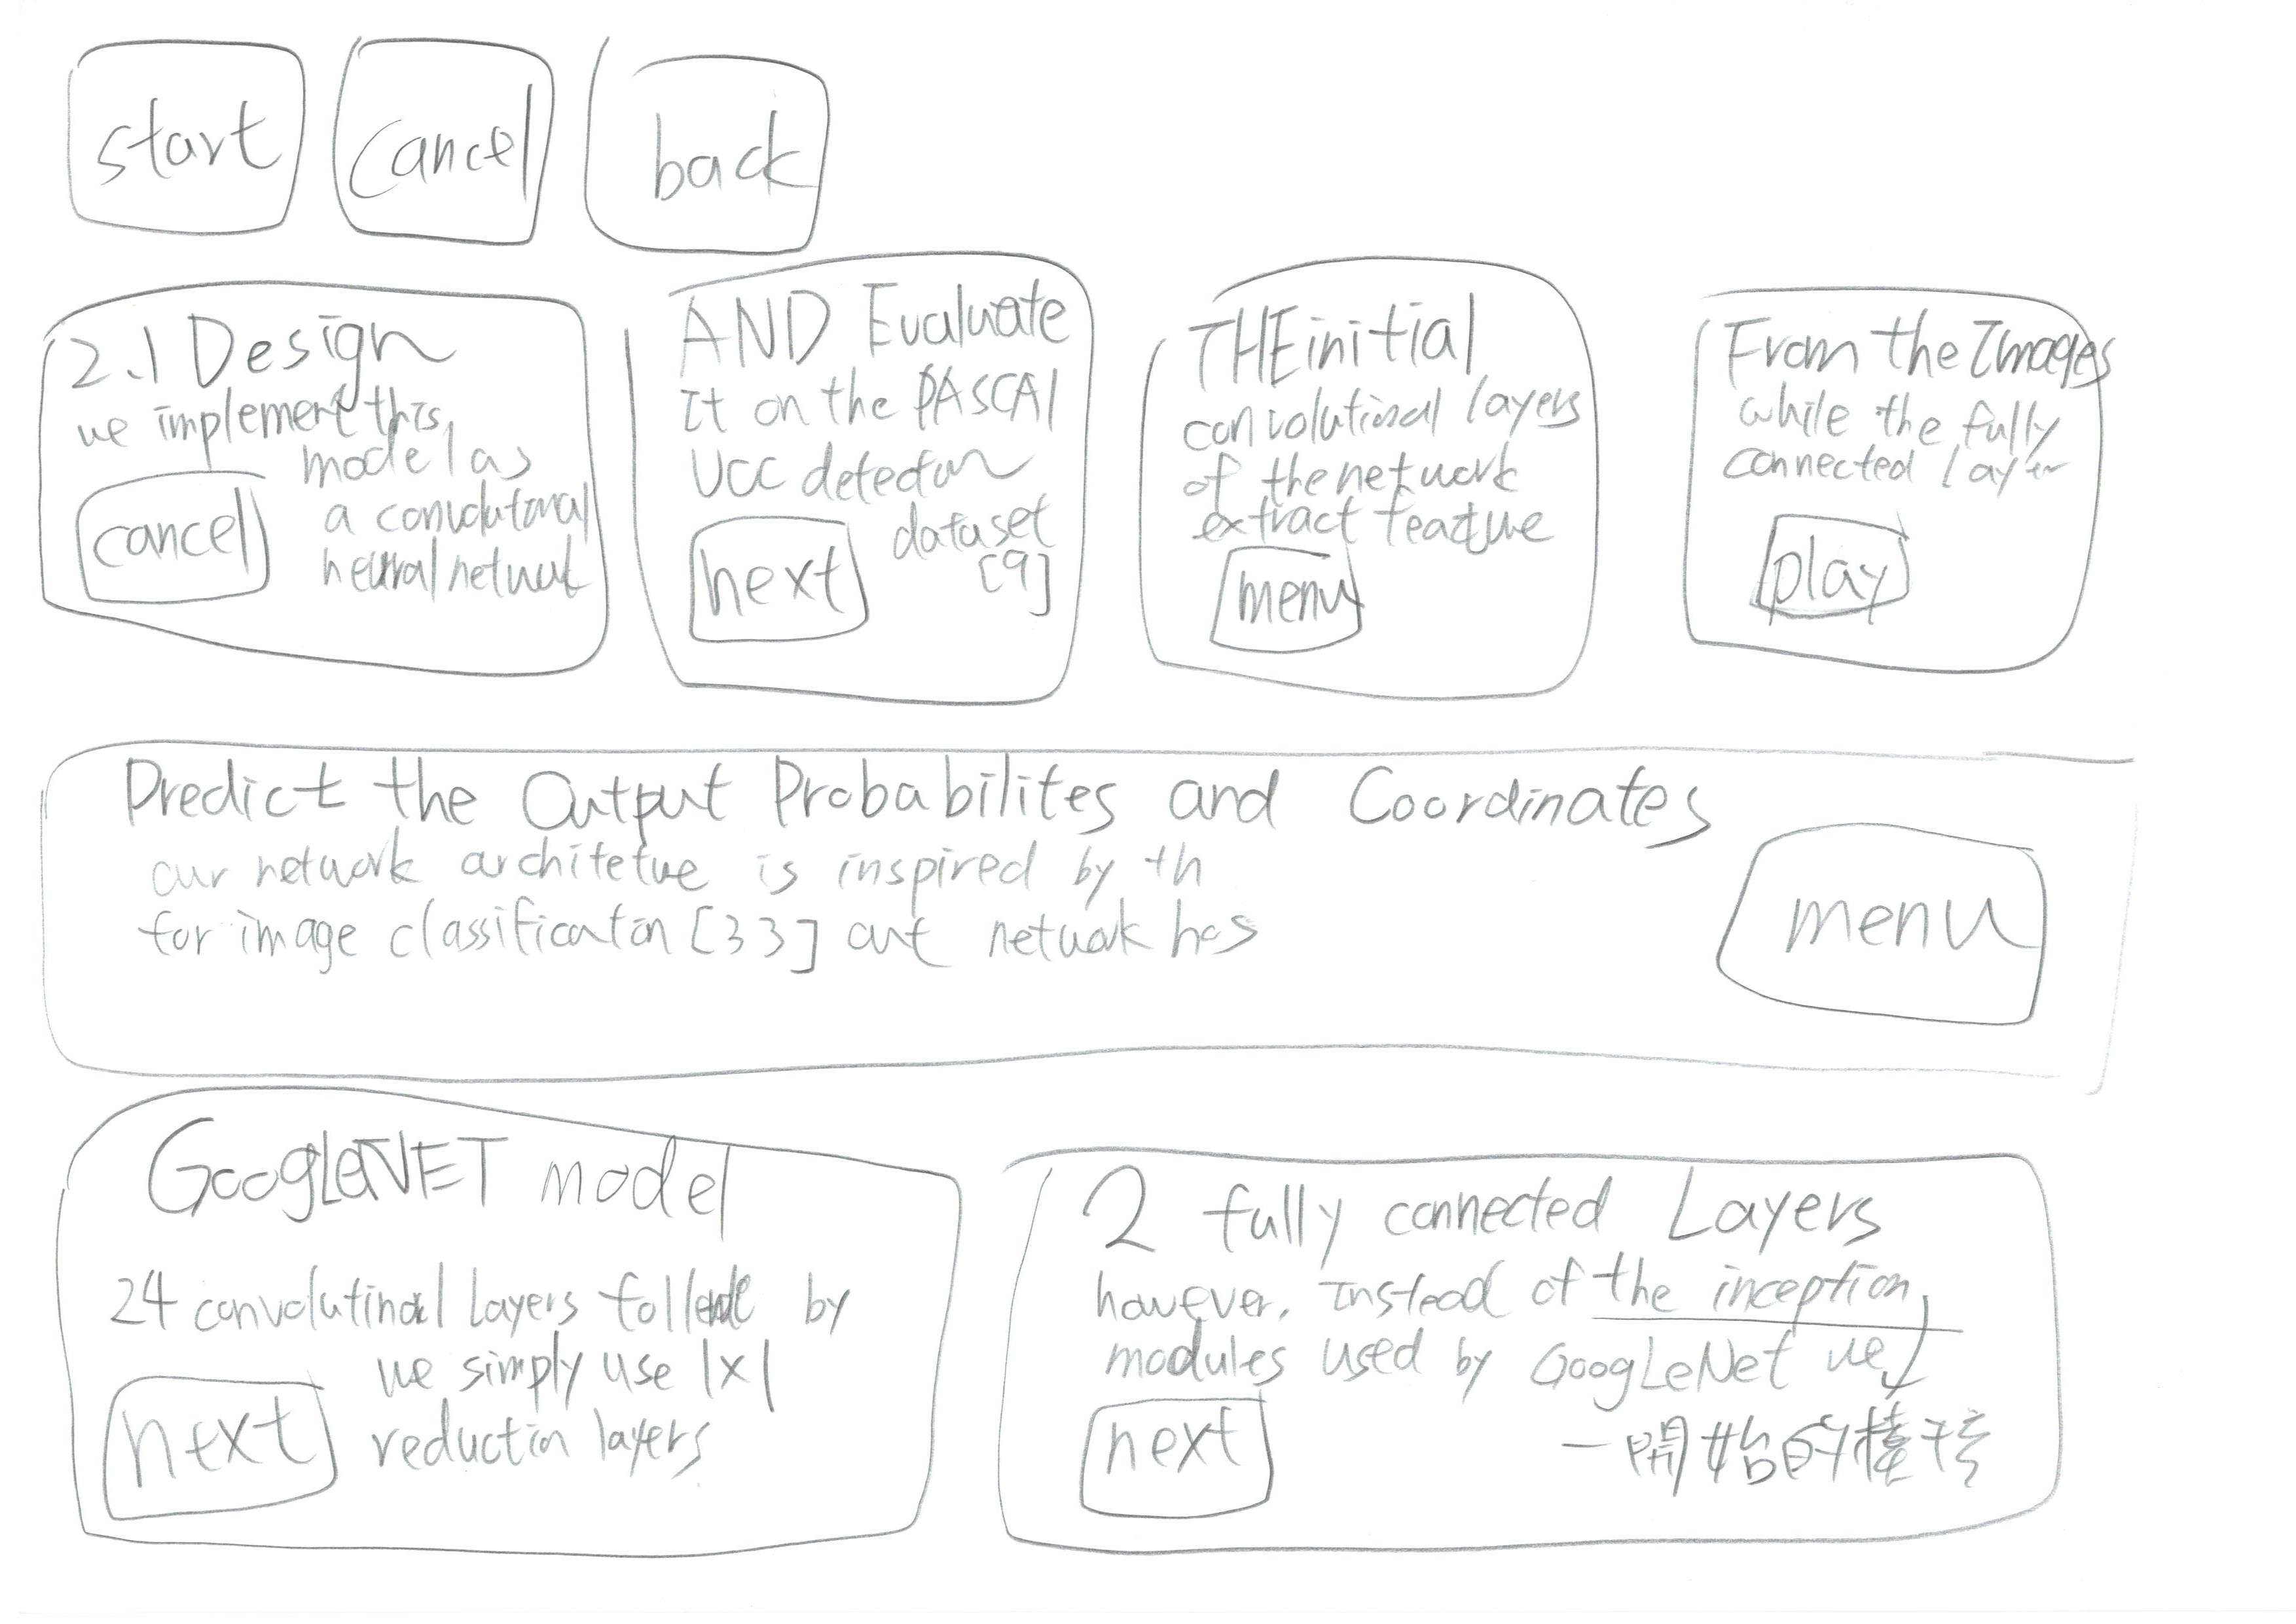back: (563, 12, 886, 272)
cancel: (304, 5, 585, 274), (42, 445, 309, 636)
double: (948, 1079, 2115, 1612), (21, 1060, 993, 1605)
menu: (1691, 805, 2097, 1049), (1183, 529, 1392, 659)
next: (83, 1350, 373, 1543), (661, 487, 916, 684), (1053, 1373, 1313, 1536)
play: (1709, 496, 1957, 649)
quadruple: (12, 251, 650, 715), (636, 230, 1136, 729), (1113, 234, 1612, 731), (1653, 220, 2152, 717)
row: (2, 1060, 2296, 1594), (2, 223, 2296, 743), (2, 707, 2296, 1104), (2, 5, 2296, 269)
single: (4, 715, 2182, 1106)
small-title: (97, 756, 1714, 838), (102, 1113, 847, 1239), (1067, 1156, 1916, 1262), (1188, 264, 1493, 392), (74, 302, 447, 390), (677, 274, 1083, 352), (1725, 295, 2111, 373)
start: (32, 11, 322, 258)
text: (116, 828, 1261, 990), (360, 1244, 883, 1482), (1095, 1260, 1988, 1394), (1540, 1274, 1997, 1489), (109, 1234, 856, 1343), (1174, 392, 1575, 545), (665, 359, 1062, 508), (318, 406, 566, 615), (1721, 387, 2080, 478), (70, 395, 510, 466), (897, 431, 1062, 613)
